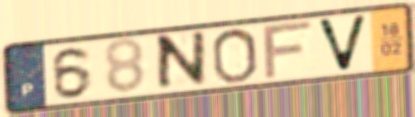6: (50, 45, 95, 101)
8: (101, 37, 152, 98)
F: (261, 18, 316, 83)
N: (154, 28, 209, 95)
O: (209, 26, 260, 85)
V: (314, 13, 371, 75)
